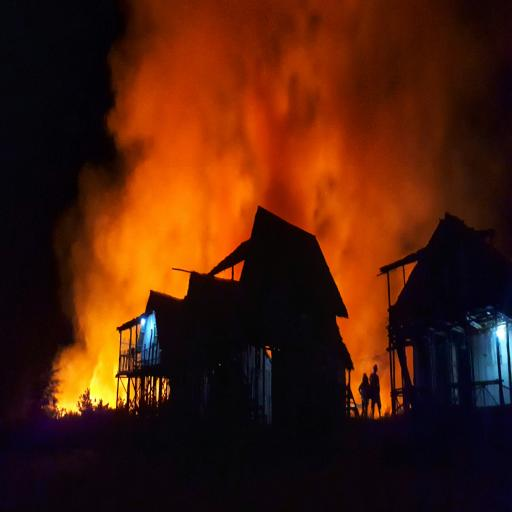buildingfire: (5, 18, 512, 448)
